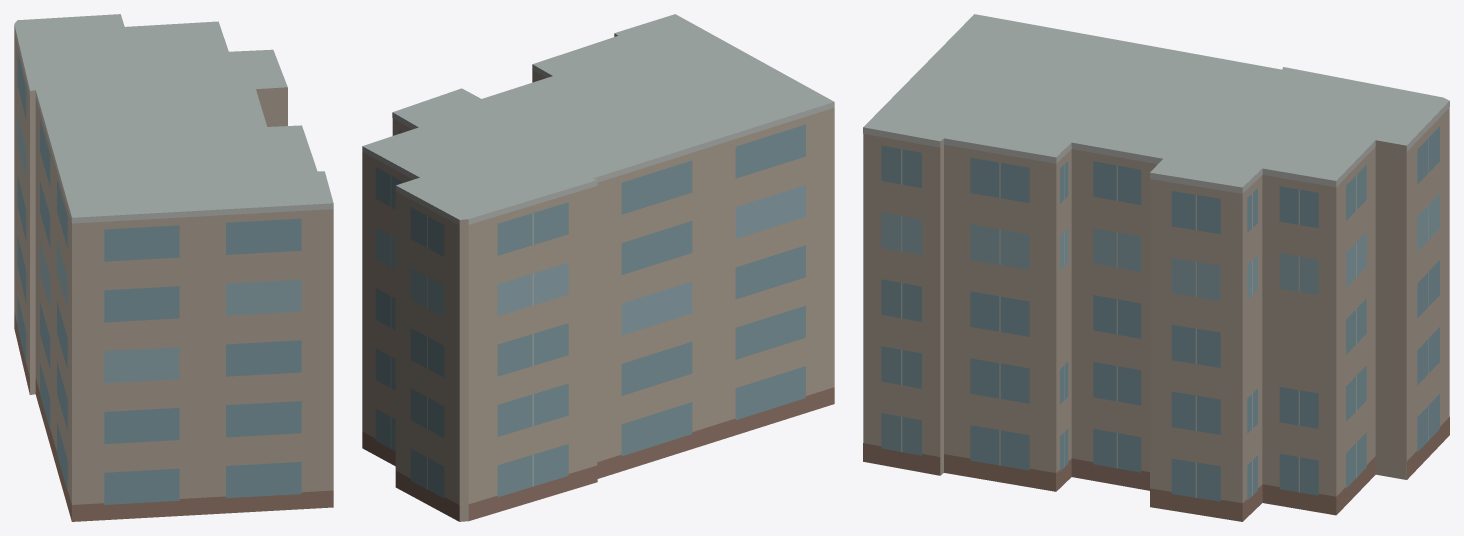
Rendered from survey-upis-33008296.glb.
3 views of the same model, side by side, from view 1: azimuth 30°, elevation 25°; view 2: azimuth 150°, elevation 25°; view 3: azimuth 270°, elevation 25° (orthographic). The views are drawn at different scales.
Parts seen in each view (by area): view 1: survey-upis-33008296.tmp; view 2: survey-upis-33008296.tmp; view 3: survey-upis-33008296.tmp.
Boxes of the visible parts, x1,y1,x2,y2 form: survey-upis-33008296.tmp: (14,14,333,521); survey-upis-33008296.tmp: (362,14,834,521); survey-upis-33008296.tmp: (863,14,1449,521).
Size of the model in its own units: 14.36 by 12.9 by 20.52.
